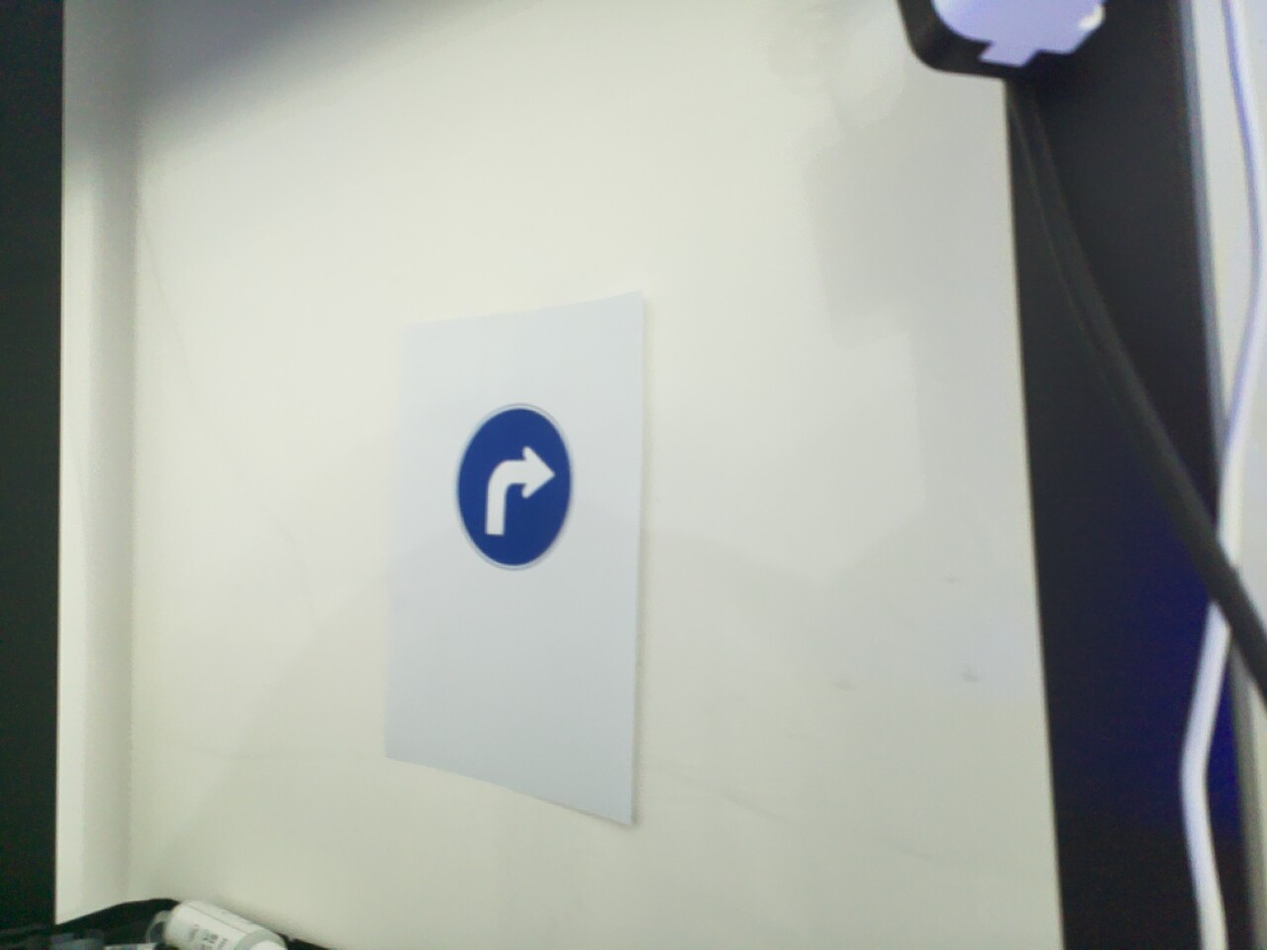right_turn: (451, 402, 577, 573)
